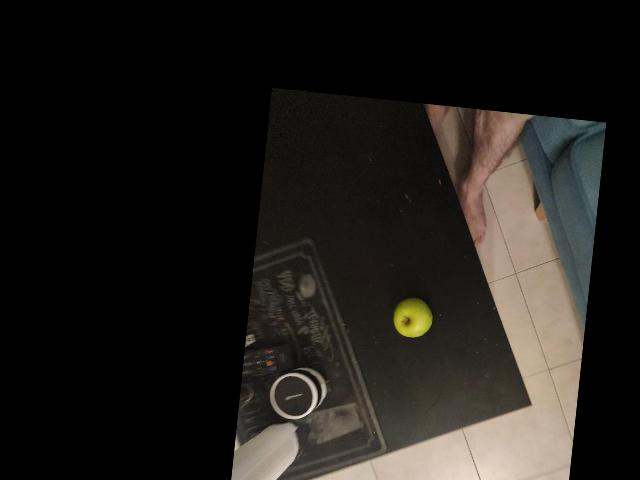apple: (448, 363, 497, 413)
